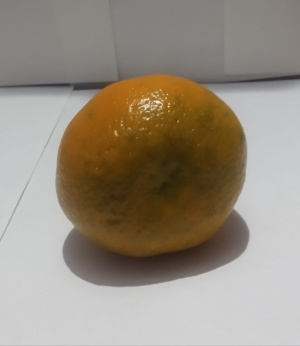BAD: (55, 76, 247, 257)
